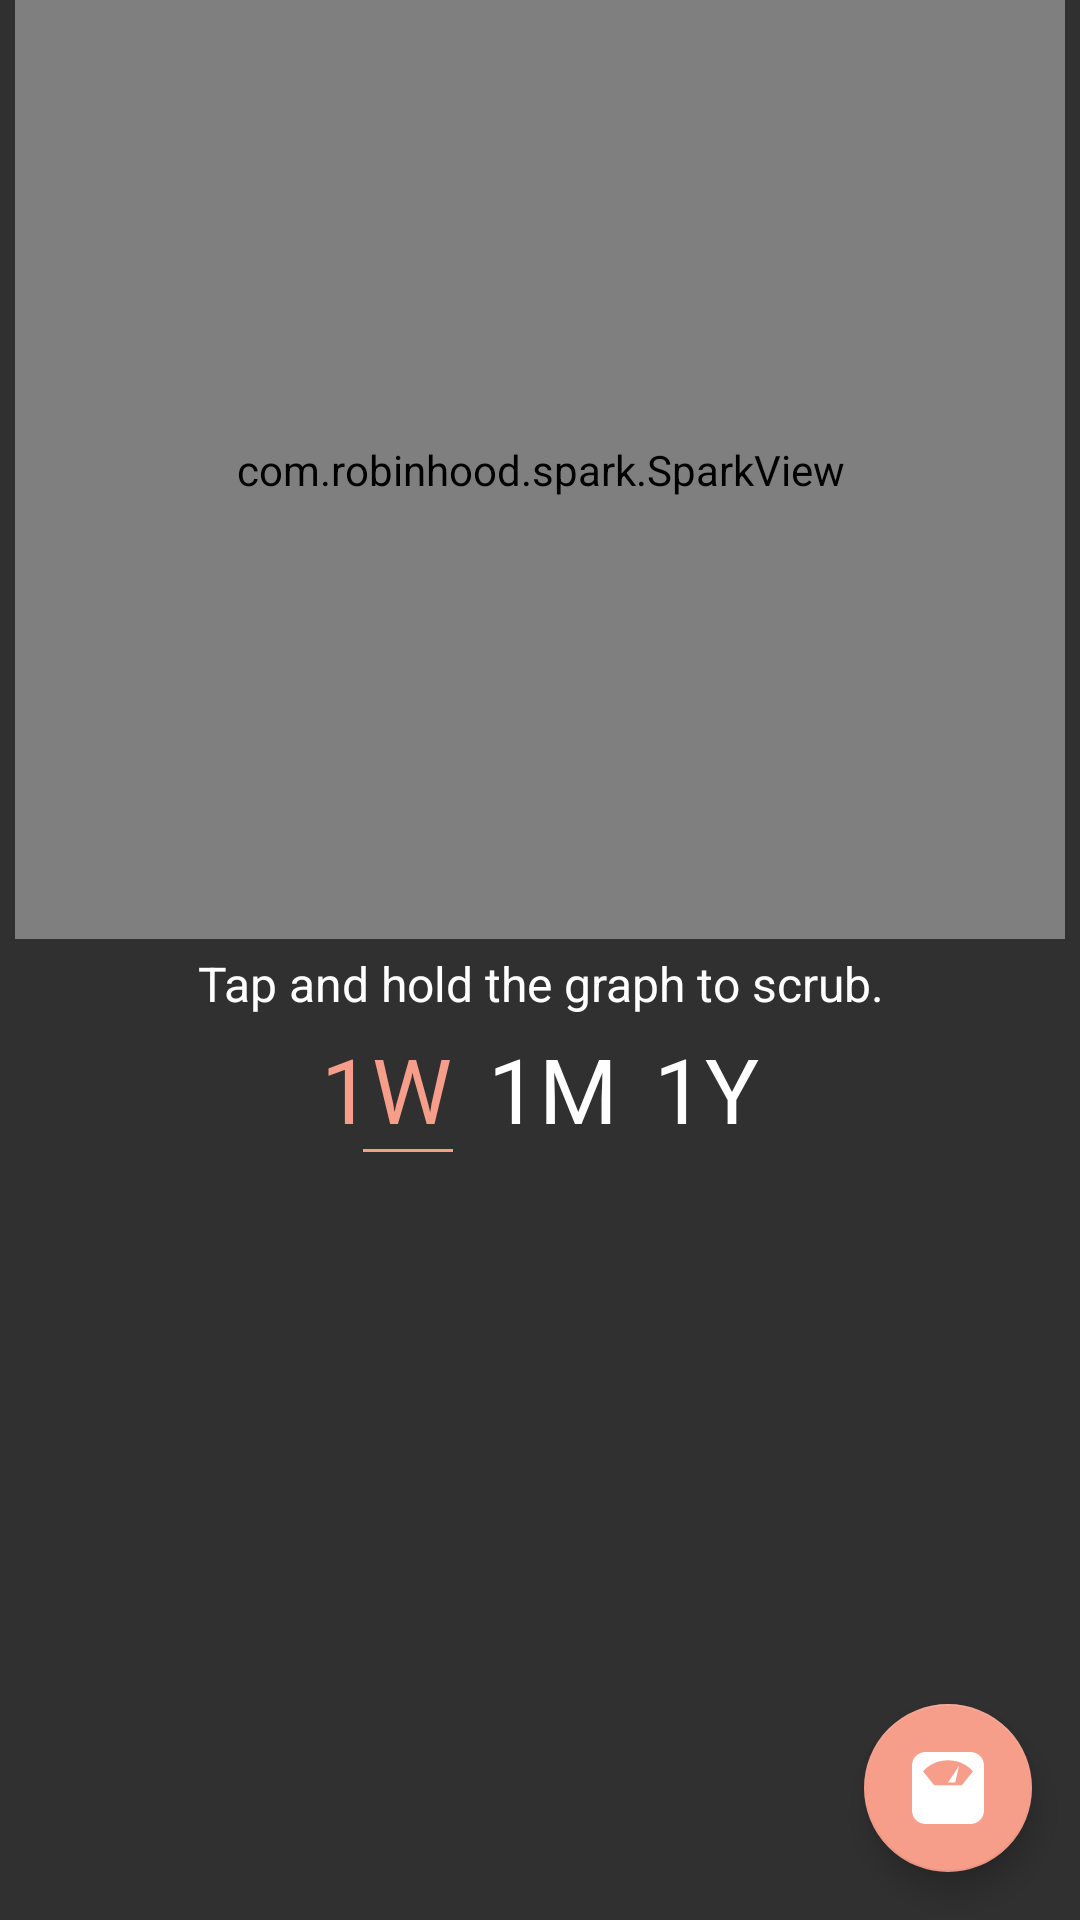

Screen size 1080px x 1920px. Icon name, then its center in pixels as point (x, y):
Add weight Fab button: point (948, 1788)
